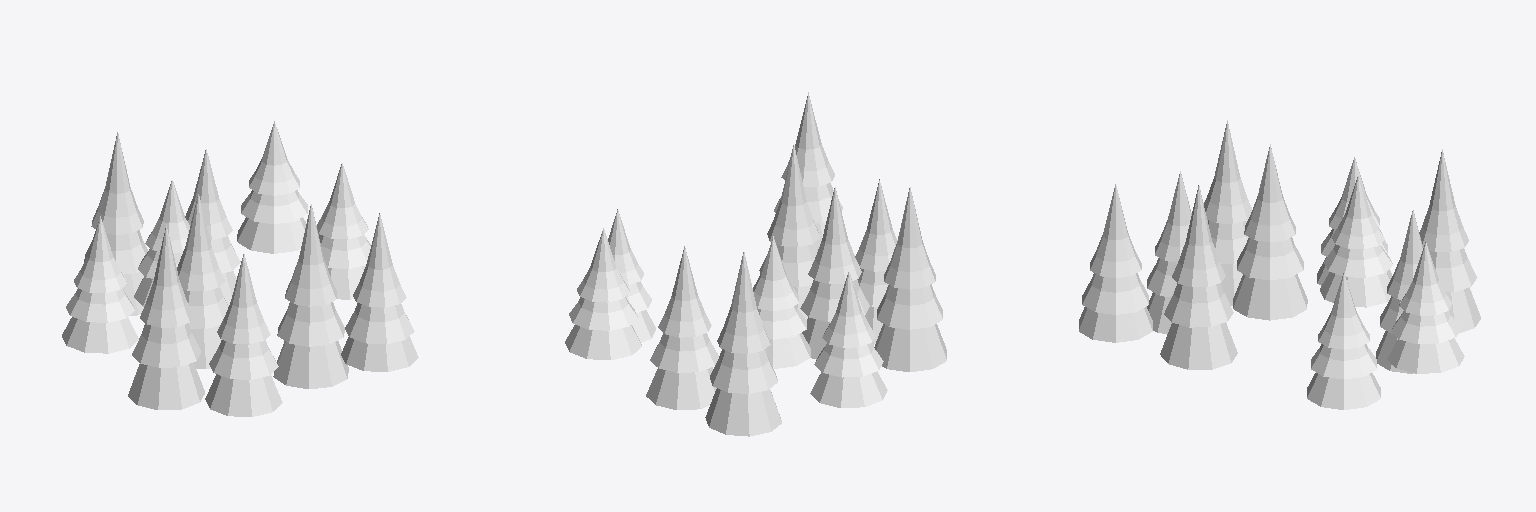
Rendered from leafs.obj.
The picture shows the model from 3 angles: view 1: azimuth 30°, elevation 25°; view 2: azimuth 150°, elevation 25°; view 3: azimuth 270°, elevation 25°; orthographic projection.
Parts seen in each view (by area): view 1: polySurface130_Mesh.335, polySurface119_Mesh.324, polySurface132_Mesh.337, polySurface121_Mesh.326, polySurface100_Mesh.305, polySurface104_Mesh.309, polySurface128_Mesh.333, polySurface118_Mesh.323, polySurface106_Mesh.311, polySurface120_Mesh.325, polySurface131_Mesh.336, polySurface127_Mesh.332 (+17 smaller); view 2: polySurface98_Mesh.303, polySurface130_Mesh.335, polySurface132_Mesh.337, polySurface100_Mesh.305, polySurface121_Mesh.326, polySurface118_Mesh.323, polySurface147_Mesh.352, polySurface131_Mesh.336, polySurface99_Mesh.304, polySurface145_Mesh.350, polySurface152_Mesh.357, polySurface146_Mesh.351 (+16 smaller); view 3: polySurface119_Mesh.324, polySurface116_Mesh.321, polySurface121_Mesh.326, polySurface132_Mesh.337, polySurface100_Mesh.305, polySurface118_Mesh.323, polySurface128_Mesh.333, polySurface120_Mesh.325, polySurface117_Mesh.322, polySurface127_Mesh.332, polySurface112_Mesh.317, polySurface137_Mesh.342 (+18 smaller).
Part boxes in pixels (x1,y1,x2,y2): polySurface130_Mesh.335: (128,362,204,409); polySurface119_Mesh.324: (273,341,348,388); polySurface132_Mesh.337: (140,224,192,327); polySurface121_Mesh.326: (285,204,336,306); polySurface100_Mesh.305: (91,132,143,234); polySurface104_Mesh.309: (205,374,282,416); polySurface128_Mesh.333: (353,213,406,307); polySurface118_Mesh.323: (177,193,225,290); polySurface106_Mesh.311: (217,254,270,344); polySurface120_Mesh.325: (277,302,344,346); polySurface131_Mesh.336: (132,323,200,367); polySurface127_Mesh.332: (345,303,414,343); polySurface98_Mesh.303: (705,388,781,436); polySurface130_Mesh.335: (874,324,946,371); polySurface132_Mesh.337: (884,187,935,289); polySurface100_Mesh.305: (717,252,770,353); polySurface121_Mesh.326: (767,145,819,246); polySurface118_Mesh.323: (808,187,861,283); polySurface147_Mesh.352: (658,246,711,337); polySurface131_Mesh.336: (877,284,942,329); polySurface99_Mesh.304: (710,349,777,393); polySurface145_Mesh.350: (646,367,716,409); polySurface152_Mesh.357: (810,371,887,407); polySurface146_Mesh.351: (650,333,718,372); polySurface119_Mesh.324: (1160,322,1237,369); polySurface116_Mesh.321: (1233,274,1307,320); polySurface121_Mesh.326: (1172,185,1225,286); polySurface132_Mesh.337: (1204,120,1251,223); polySurface100_Mesh.305: (1419,149,1468,251); polySurface118_Mesh.323: (1244,144,1295,241); polySurface128_Mesh.333: (1090,184,1141,277); polySurface120_Mesh.325: (1164,283,1233,327); polySurface117_Mesh.322: (1237,237,1303,280); polySurface127_Mesh.332: (1082,273,1148,314); polySurface112_Mesh.317: (1307,373,1380,409); polySurface137_Mesh.342: (1387,338,1464,373).
Size of the model in its own units: 1.78 by 1.05 by 2.04.